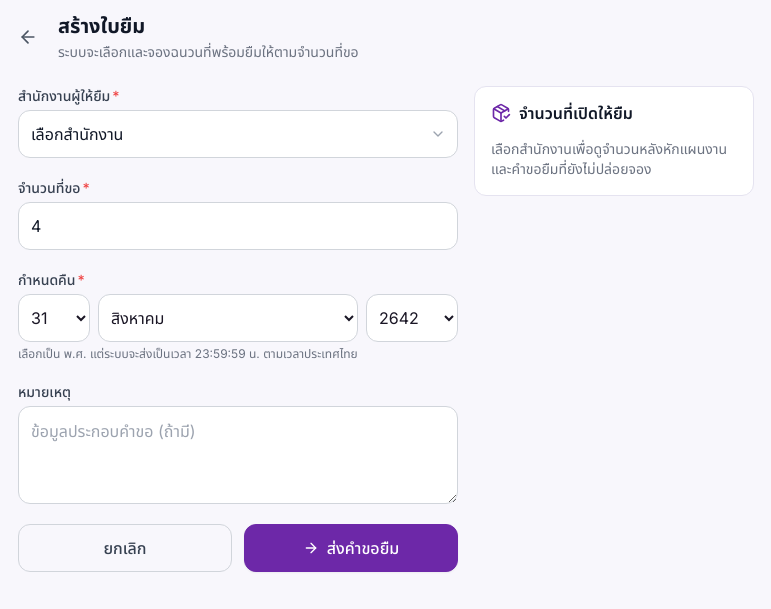
NewBorrowPage canonical request › refreshes the availability snapshot when the server rejects stale capacity
Select "สำนักงานกำลังสูง — ยืมได้ 20 ชิ้น" in the dropdown labelled "สำนักงานผู้ให้ยืม*" at (238, 134), box [18, 110, 458, 158]
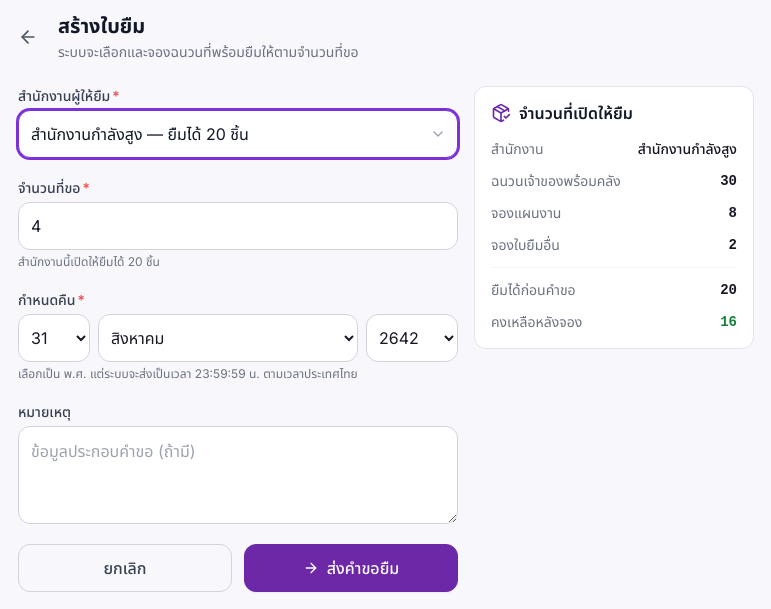
Click the button "ส่งคำขอยืม" at (351, 568), box [244, 544, 458, 592]
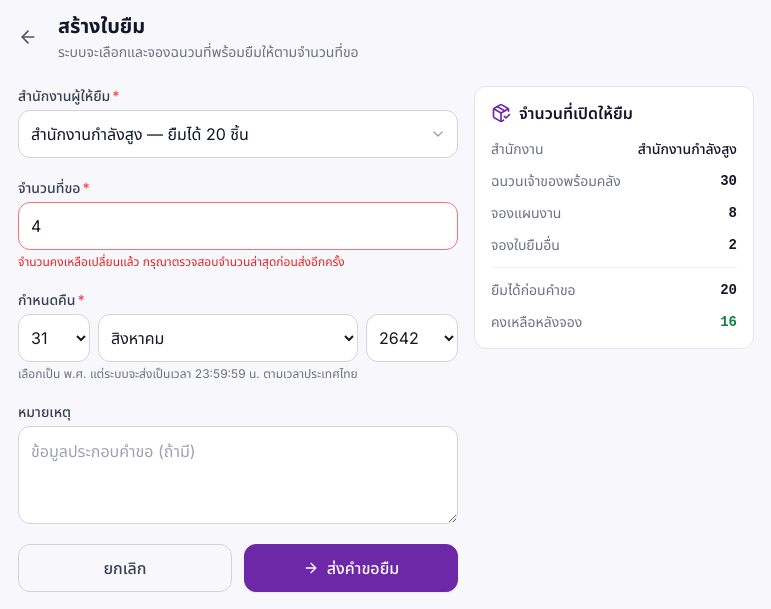
Now the text "จำนวนคงเหลือเปลี่ยนแล้ว กรุณาตรวจสอบจำนวนล่าสุดก่อนส่งอีกครั้ง" is shown, box [18, 254, 345, 269]
